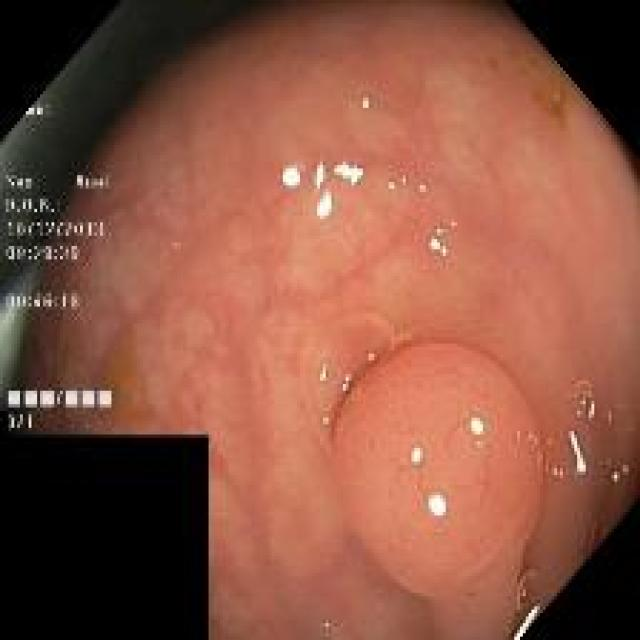Polyps: (334, 345, 544, 640)
